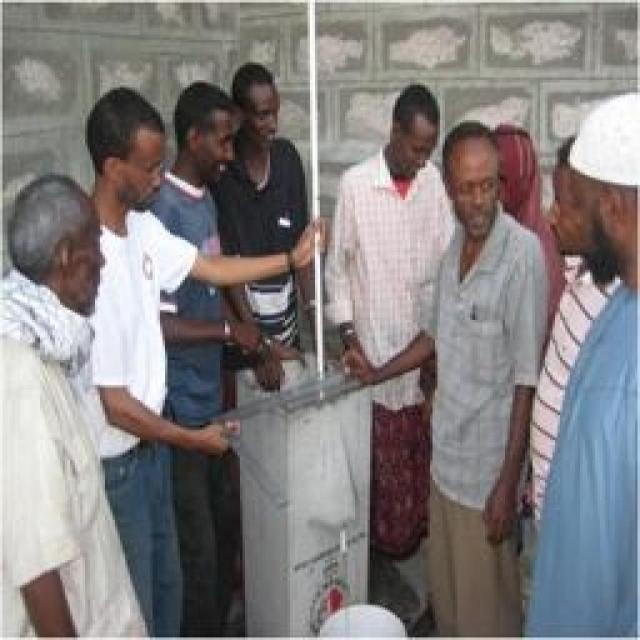Helmet: (2, 284, 136, 640), (555, 274, 640, 640), (440, 223, 525, 520), (349, 153, 445, 415), (228, 145, 318, 354), (2, 142, 108, 319), (98, 224, 176, 462), (166, 184, 230, 437), (532, 258, 594, 514), (580, 84, 640, 346), (75, 63, 177, 215), (377, 59, 452, 198), (442, 114, 510, 260), (224, 49, 290, 171), (169, 71, 235, 189), (500, 112, 555, 242), (550, 129, 588, 277), (534, 219, 558, 430)
